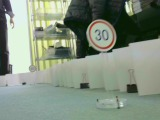speed_30: (85, 19, 117, 52)
